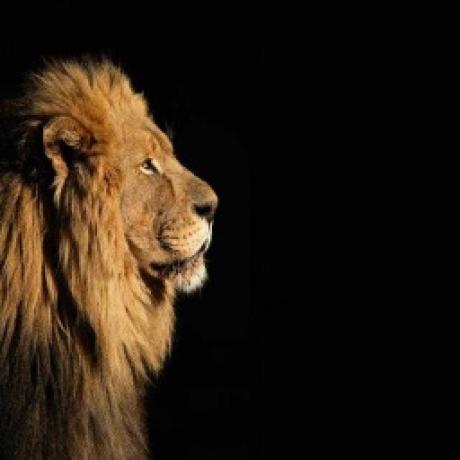Lion: (0, 48, 223, 460)
